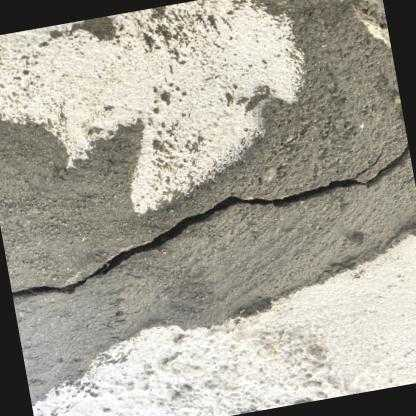crack: (11, 136, 411, 301)
